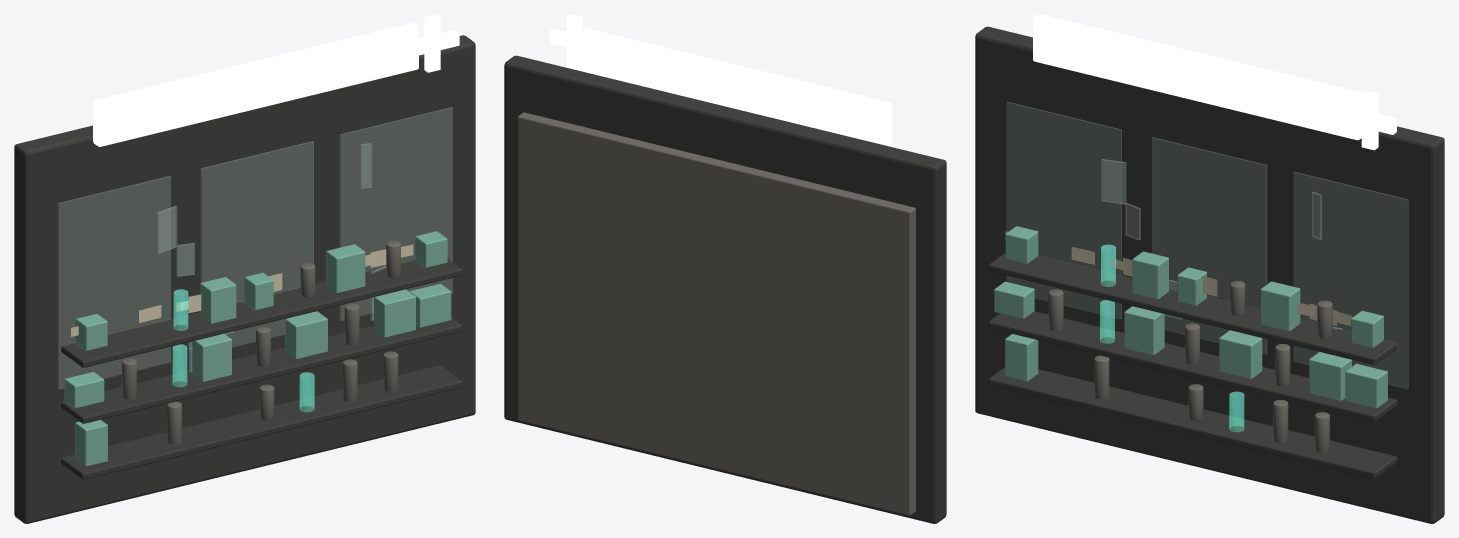
Rendered from dz_shop_front_filled_window_B.glb.
The picture shows the model from 3 angles, left to right: view 1: azimuth 30°, elevation 25°; view 2: azimuth 150°, elevation 25°; view 3: azimuth 330°, elevation 25°; orthographic projection. The views are drawn at different scales.
Visible parts, largest first — view 1: bent_storefront_frame, dirty_glass_panel_-1.15, damaged_store_sign, dirty_glass_panel_0.05, dirty_glass_panel_1.22, display_stock_shelf_board_0, display_stock_shelf_board_2, display_stock_shelf_board_1, display_stock_box_1_5, display_stock_box_1_7, display_stock_box_2_6, display_stock_box_1_3 (+24 smaller); view 2: dark_back_interior, bent_storefront_frame, damaged_store_sign, pharmacy_cross_vertical; view 3: bent_storefront_frame, dirty_glass_panel_-1.15, dirty_glass_panel_1.22, damaged_store_sign, dirty_glass_panel_0.05, display_stock_shelf_board_0, display_stock_shelf_board_2, display_stock_shelf_board_1, display_stock_box_1_5, display_stock_box_2_6, display_stock_box_1_3, display_stock_box_1_7 (+22 smaller).
Part boxes in pixels (left/top/right/bottom): bent_storefront_frame: left=14, top=35, right=475, bottom=523; dirty_glass_panel_-1.15: left=58, top=176, right=170, bottom=389; damaged_store_sign: left=93, top=23, right=418, bottom=146; dirty_glass_panel_0.05: left=201, top=141, right=313, bottom=347; dirty_glass_panel_1.22: left=340, top=107, right=452, bottom=320; display_stock_shelf_board_0: left=61, top=365, right=462, bottom=479; display_stock_shelf_board_2: left=61, top=259, right=462, bottom=367; display_stock_shelf_board_1: left=61, top=317, right=462, bottom=423; display_stock_box_1_5: left=285, top=311, right=327, bottom=358; display_stock_box_1_7: left=374, top=289, right=415, bottom=337; display_stock_box_2_6: left=326, top=244, right=365, bottom=292; display_stock_box_1_3: left=192, top=333, right=231, bottom=381; dark_back_interior: left=517, top=112, right=915, bottom=515; bent_storefront_frame: left=504, top=55, right=946, bottom=523; damaged_store_sign: left=580, top=28, right=892, bottom=145; pharmacy_cross_vertical: left=566, top=14, right=582, bottom=70; bent_storefront_frame: left=975, top=26, right=1444, bottom=523; dirty_glass_panel_-1.15: left=1006, top=102, right=1121, bottom=319; dirty_glass_panel_1.22: left=1293, top=172, right=1408, bottom=389; damaged_store_sign: left=1033, top=14, right=1362, bottom=140; dirty_glass_panel_0.05: left=1152, top=137, right=1266, bottom=354; display_stock_shelf_board_0: left=988, top=367, right=1397, bottom=478; display_stock_shelf_board_2: left=988, top=252, right=1397, bottom=364; display_stock_shelf_board_1: left=988, top=311, right=1397, bottom=421; display_stock_box_1_5: left=1219, top=330, right=1262, bottom=378; display_stock_box_2_6: left=1260, top=281, right=1300, bottom=331; display_stock_box_1_3: left=1124, top=306, right=1164, bottom=354; display_stock_box_1_7: left=1309, top=352, right=1351, bottom=400.
Size of the model in its own units: 3.8 by 3.36 by 0.59.
